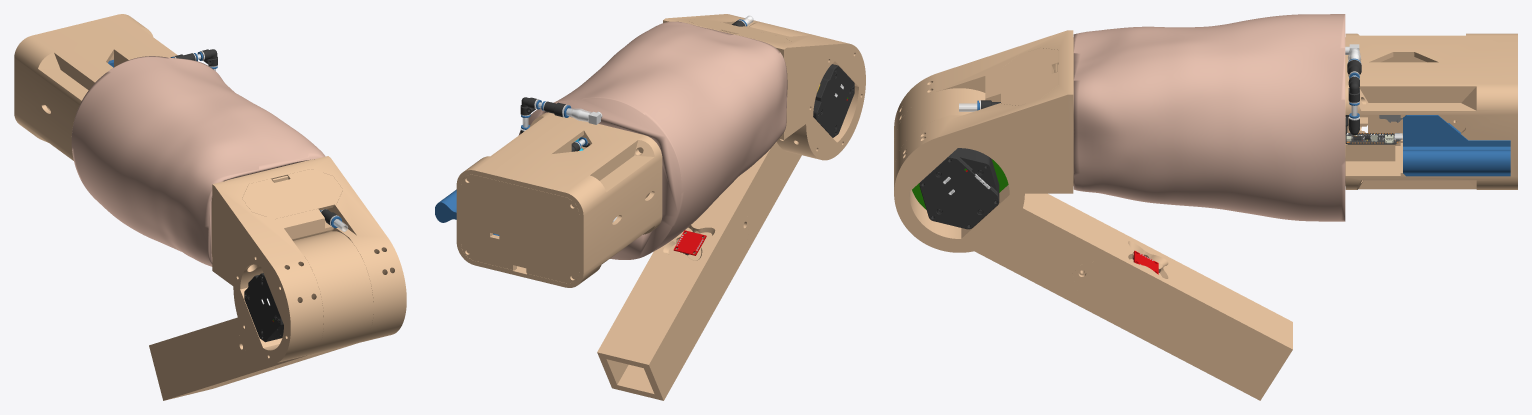
File: robotic-phantom-knee.glb
3 views of the same model, side by side, from view 1: azimuth 30°, elevation 25°; view 2: azimuth 150°, elevation 25°; view 3: azimuth 270°, elevation 25° (orthographic). The views are drawn at different scales.
Parts seen in each view (by area): view 1: Champer_Thigh, Thigh Hinge, Thigh Rear Container, Shin Hinge, Shin Body, Thigh Locker, Koala BEAR; view 2: Champer_Thigh, Thigh Rear Container, Shin Body, Thigh Rear Cover, Thigh Hinge, Shin Hinge, Koala BEAR, Thigh Locker, IMU Shin, RP5 Drawer; view 3: Champer_Thigh, Thigh Hinge, Thigh Rear Container, Shin Body, Shin Hinge, RP5 Drawer, Koala BEAR Muscle Build, Thigh Locker, FeatherS3.
Boxes of the visible parts, x1,y1,x2,y2 form: Champer_Thigh: [71, 56, 325, 266]; Thigh Hinge: [211, 156, 406, 363]; Thigh Rear Container: [14, 14, 177, 160]; Shin Hinge: [231, 231, 373, 374]; Shin Body: [149, 319, 292, 400]; Thigh Locker: [242, 169, 342, 219]; Koala BEAR: [244, 273, 283, 342]; Champer_Thigh: [518, 21, 787, 259]; Thigh Rear Container: [456, 112, 662, 287]; Shin Body: [597, 206, 749, 400]; Thigh Rear Cover: [461, 174, 579, 283]; Thigh Hinge: [663, 14, 865, 160]; Shin Hinge: [710, 22, 814, 248]; Koala BEAR: [813, 64, 854, 137]; Thigh Locker: [687, 19, 791, 42]; IMU Shin: [673, 230, 706, 255]; RP5 Drawer: [435, 189, 456, 222]; Champer_Thigh: [1073, 14, 1345, 221]; Thigh Hinge: [894, 30, 1073, 252]; Thigh Rear Container: [1345, 33, 1517, 189]; Shin Body: [1072, 224, 1292, 400]; Shin Hinge: [894, 88, 1105, 302]; RP5 Drawer: [1403, 115, 1510, 176]; Koala BEAR Muscle Build: [919, 148, 999, 229]; Thigh Locker: [1001, 48, 1058, 105]; FeatherS3: [1345, 133, 1402, 144].
Bounding box in the file's own units: 199 × 361 × 572.
